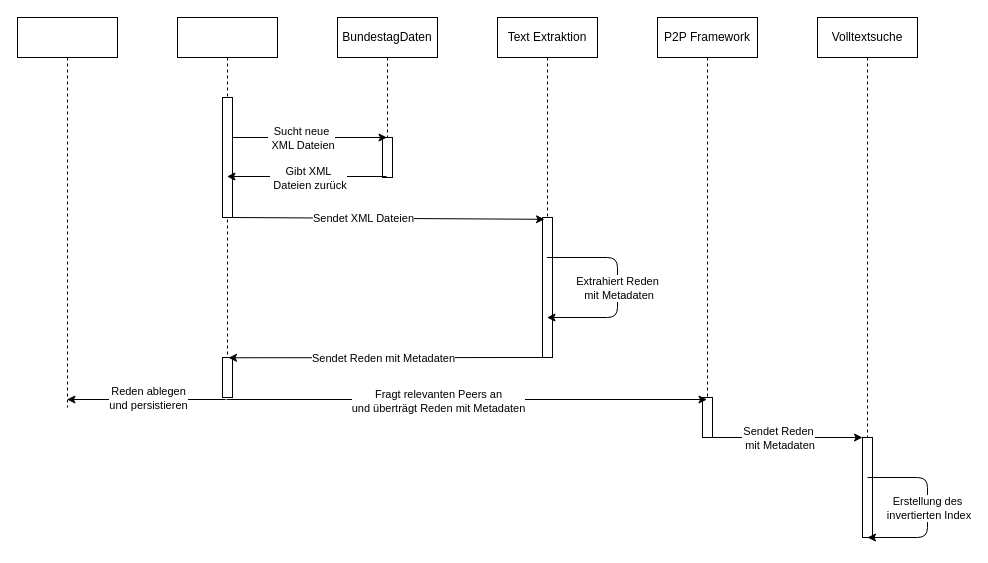
The diagram is 988 pixels wide and 563 high, and some of its shapes have lost their labels. The box of each missing label's shape, as (x1, y1, x2, y2) in pixels:
Crawler: (176, 16, 278, 398)
MongoDB: (16, 16, 118, 408)
